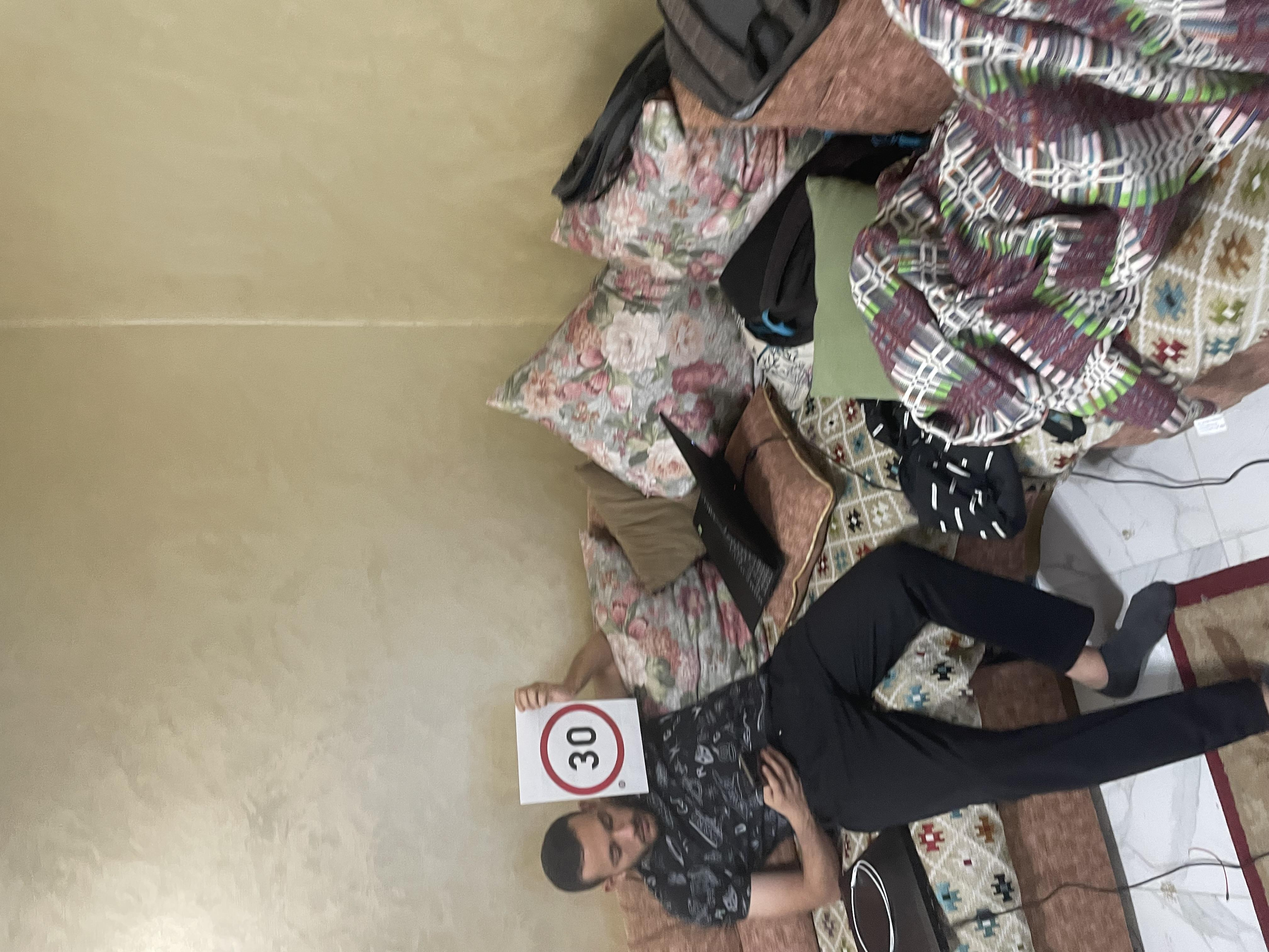30-speed: (206, 395, 341, 481)
